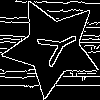Y: (27, 22, 84, 73)
